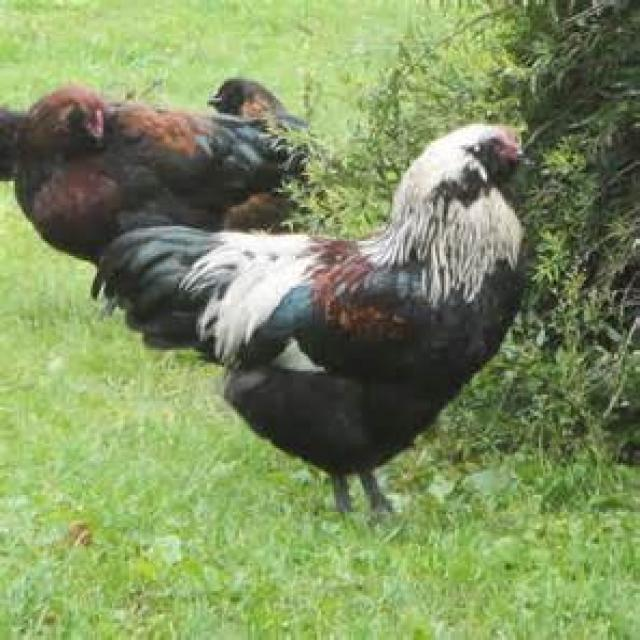hen: (93, 124, 528, 525), (0, 79, 304, 275)
